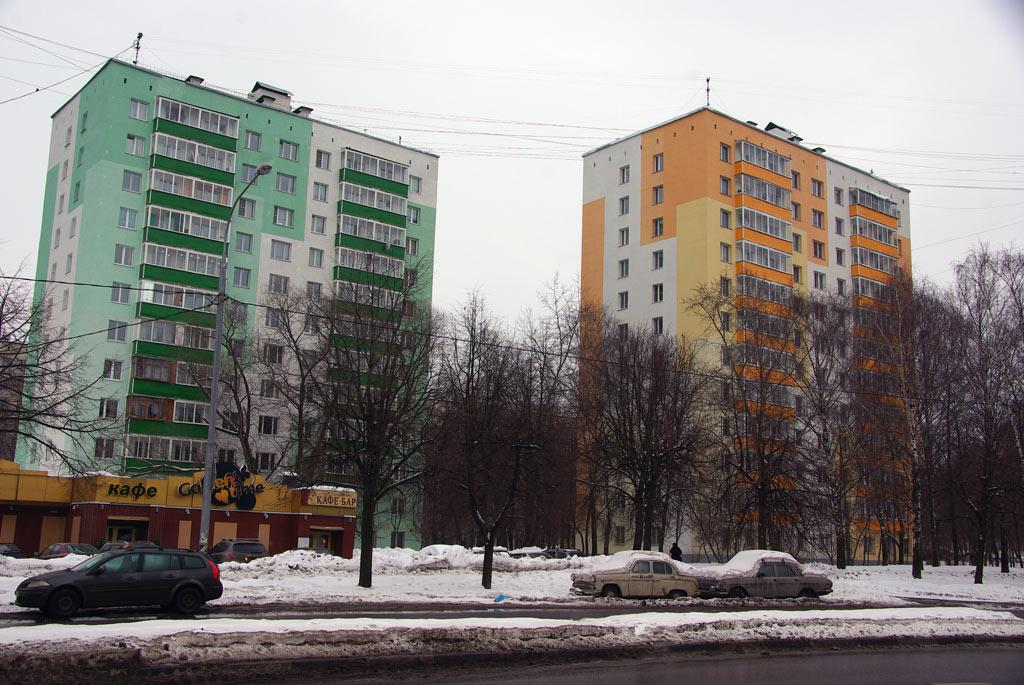mobil: (19, 551, 228, 624), (698, 551, 853, 608), (568, 541, 695, 608)
